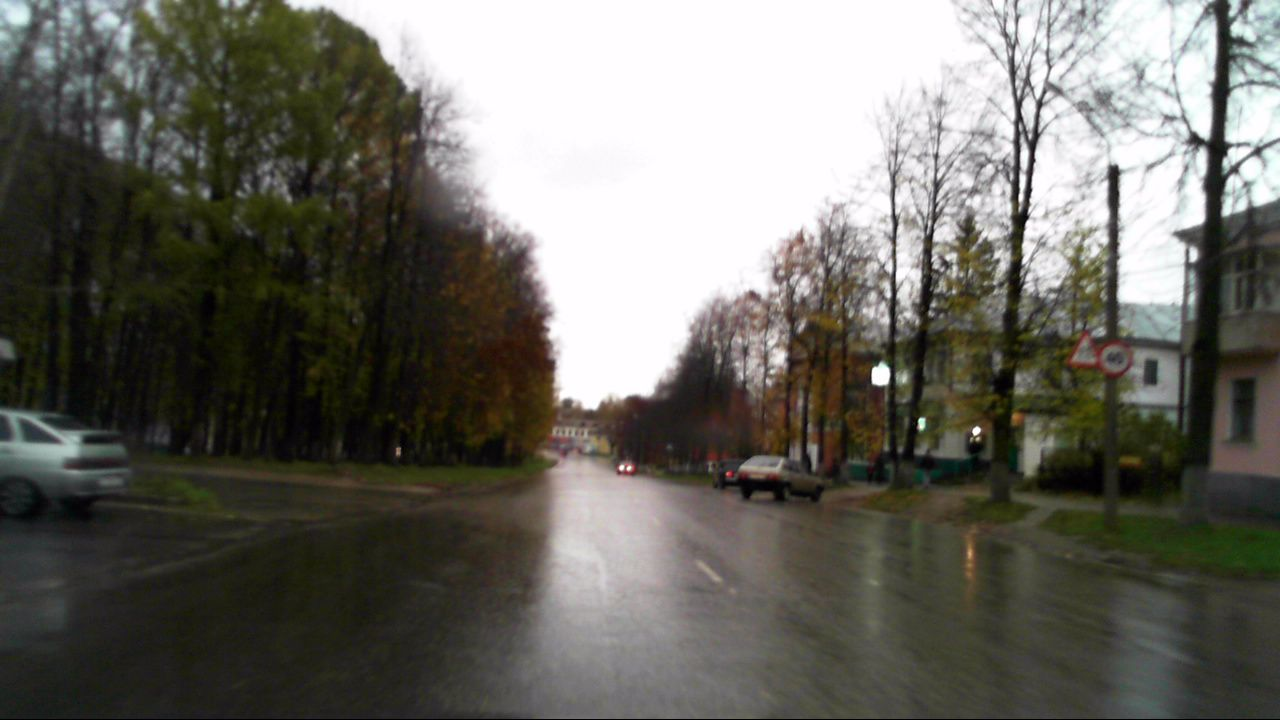speed_warning_40: (1096, 340, 1132, 377)
